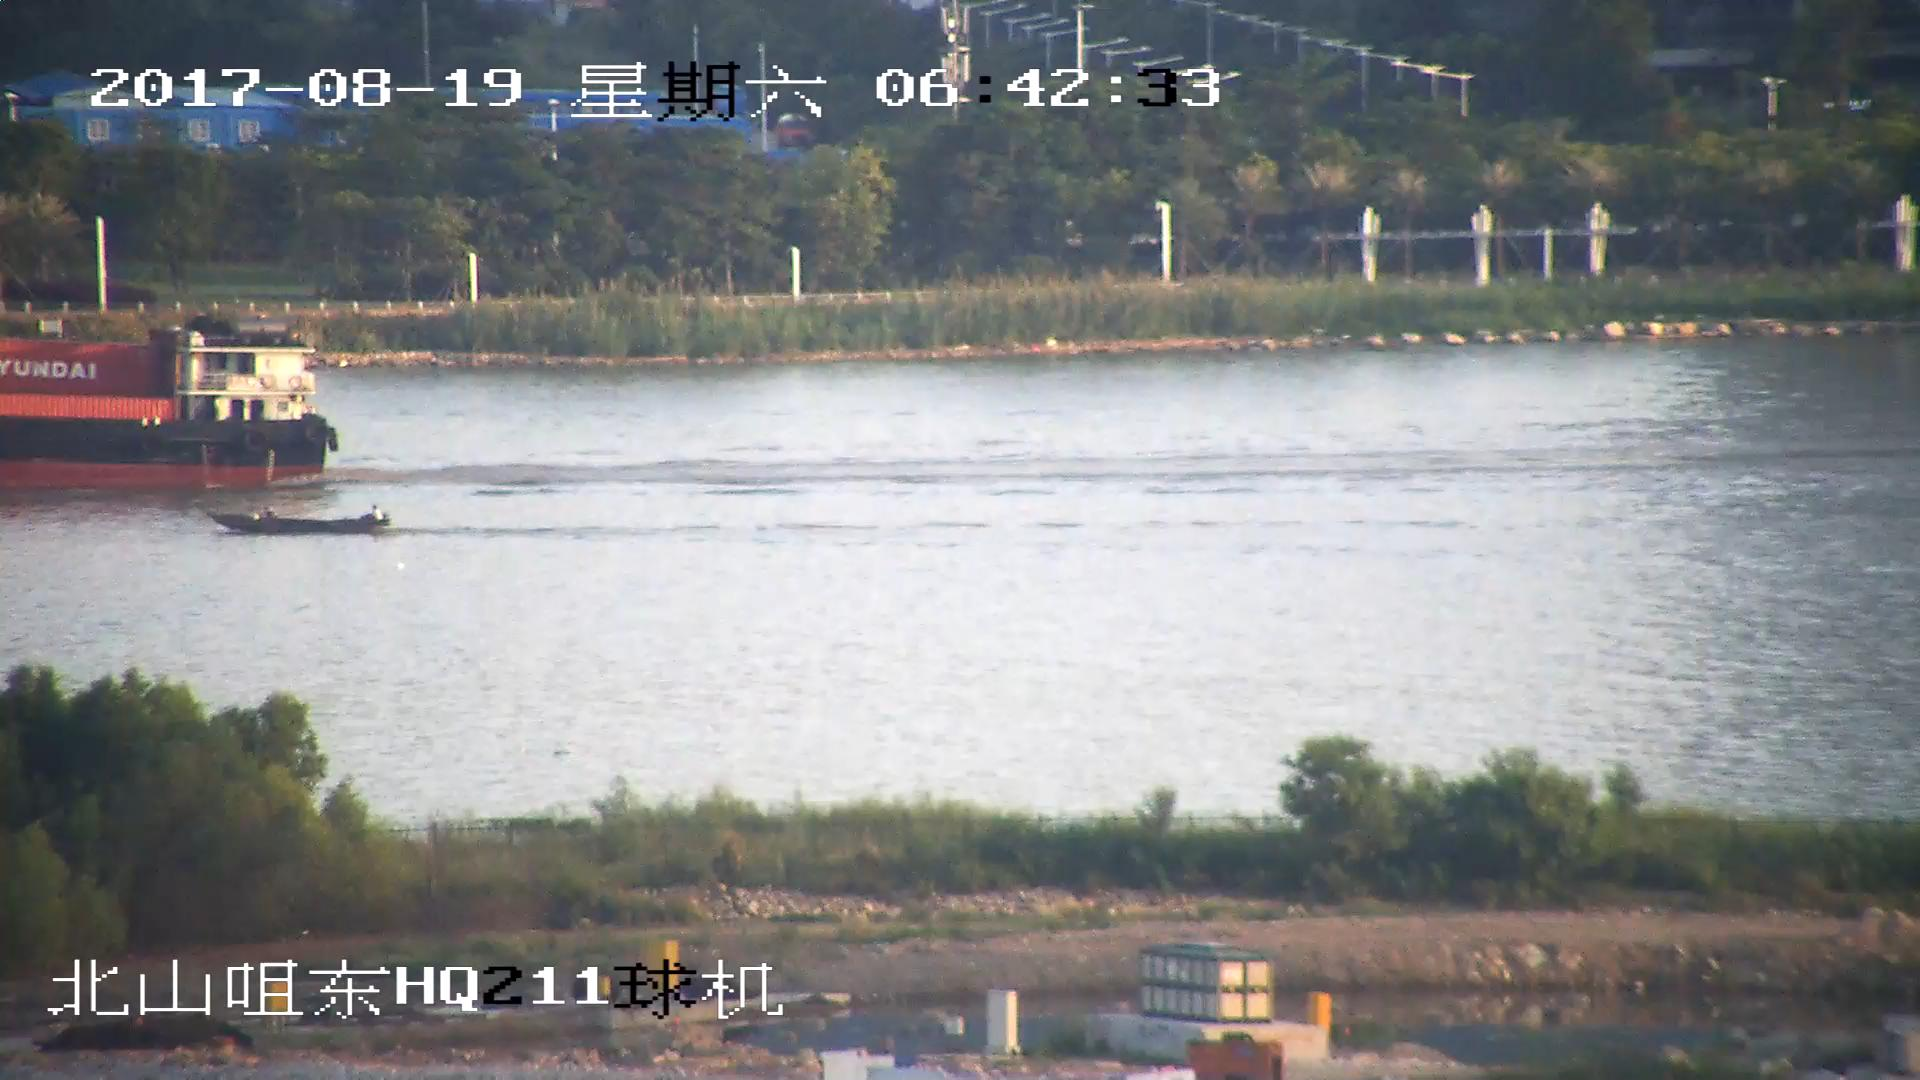container ship: (1, 328, 342, 492)
fishing boat: (211, 506, 389, 545)
